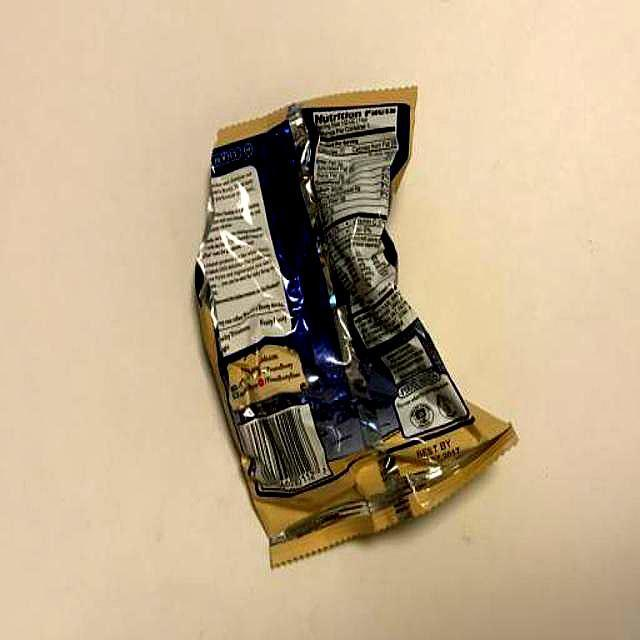Non-biodegradable: (190, 86, 519, 570)
